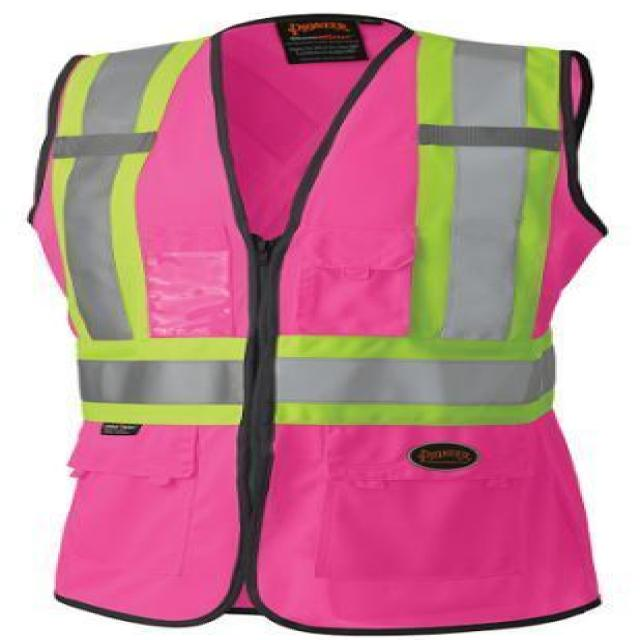Vest: (31, 17, 611, 635)
